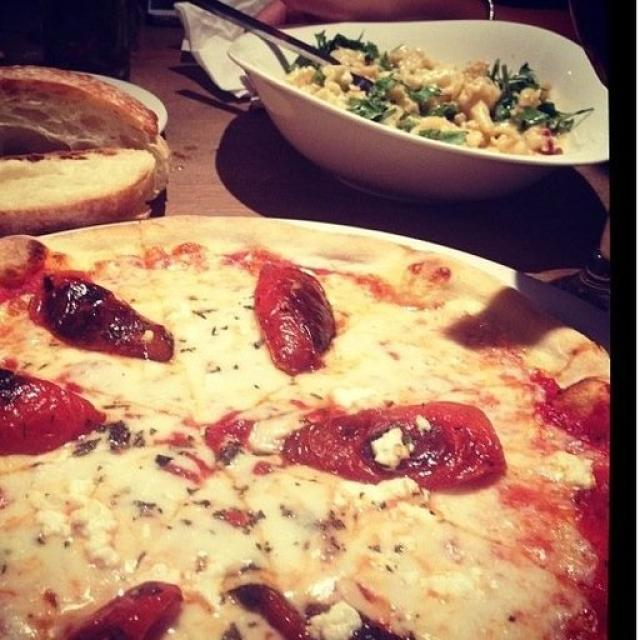Pizza: (0, 216, 609, 640)
Tomato: (285, 403, 506, 492), (33, 281, 176, 359), (256, 264, 329, 373), (0, 380, 106, 453), (88, 583, 171, 640), (235, 578, 304, 639)
